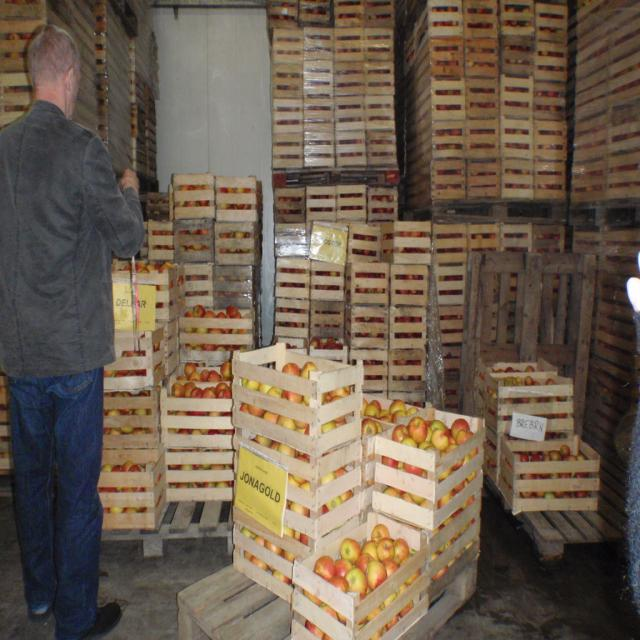Healty Apple: (241, 359, 353, 582), (432, 4, 564, 190), (434, 226, 563, 405), (360, 399, 478, 581), (270, 0, 392, 158), (277, 196, 397, 334), (300, 522, 420, 640), (344, 232, 429, 394), (97, 332, 163, 514), (477, 365, 567, 466), (164, 362, 236, 488), (500, 443, 588, 496), (183, 303, 249, 365), (117, 262, 184, 309), (216, 272, 255, 298), (220, 185, 262, 208), (177, 181, 210, 206), (218, 233, 259, 252), (176, 228, 208, 249), (180, 274, 210, 296), (366, 560, 388, 585), (152, 228, 174, 249), (310, 337, 343, 350)
